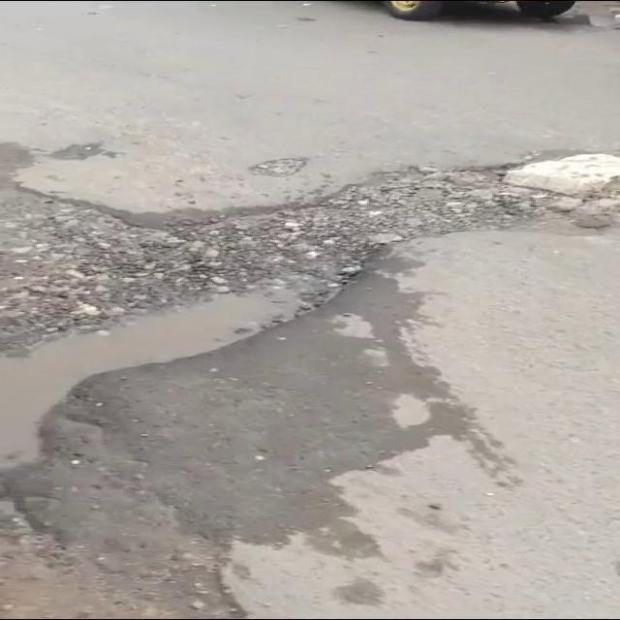lubang: (0, 154, 619, 467), (249, 158, 308, 176)
